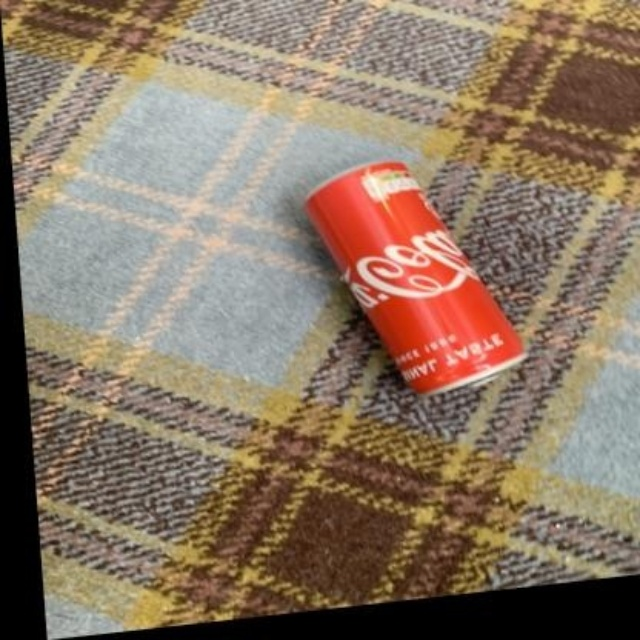trash: (306, 162, 523, 392)
